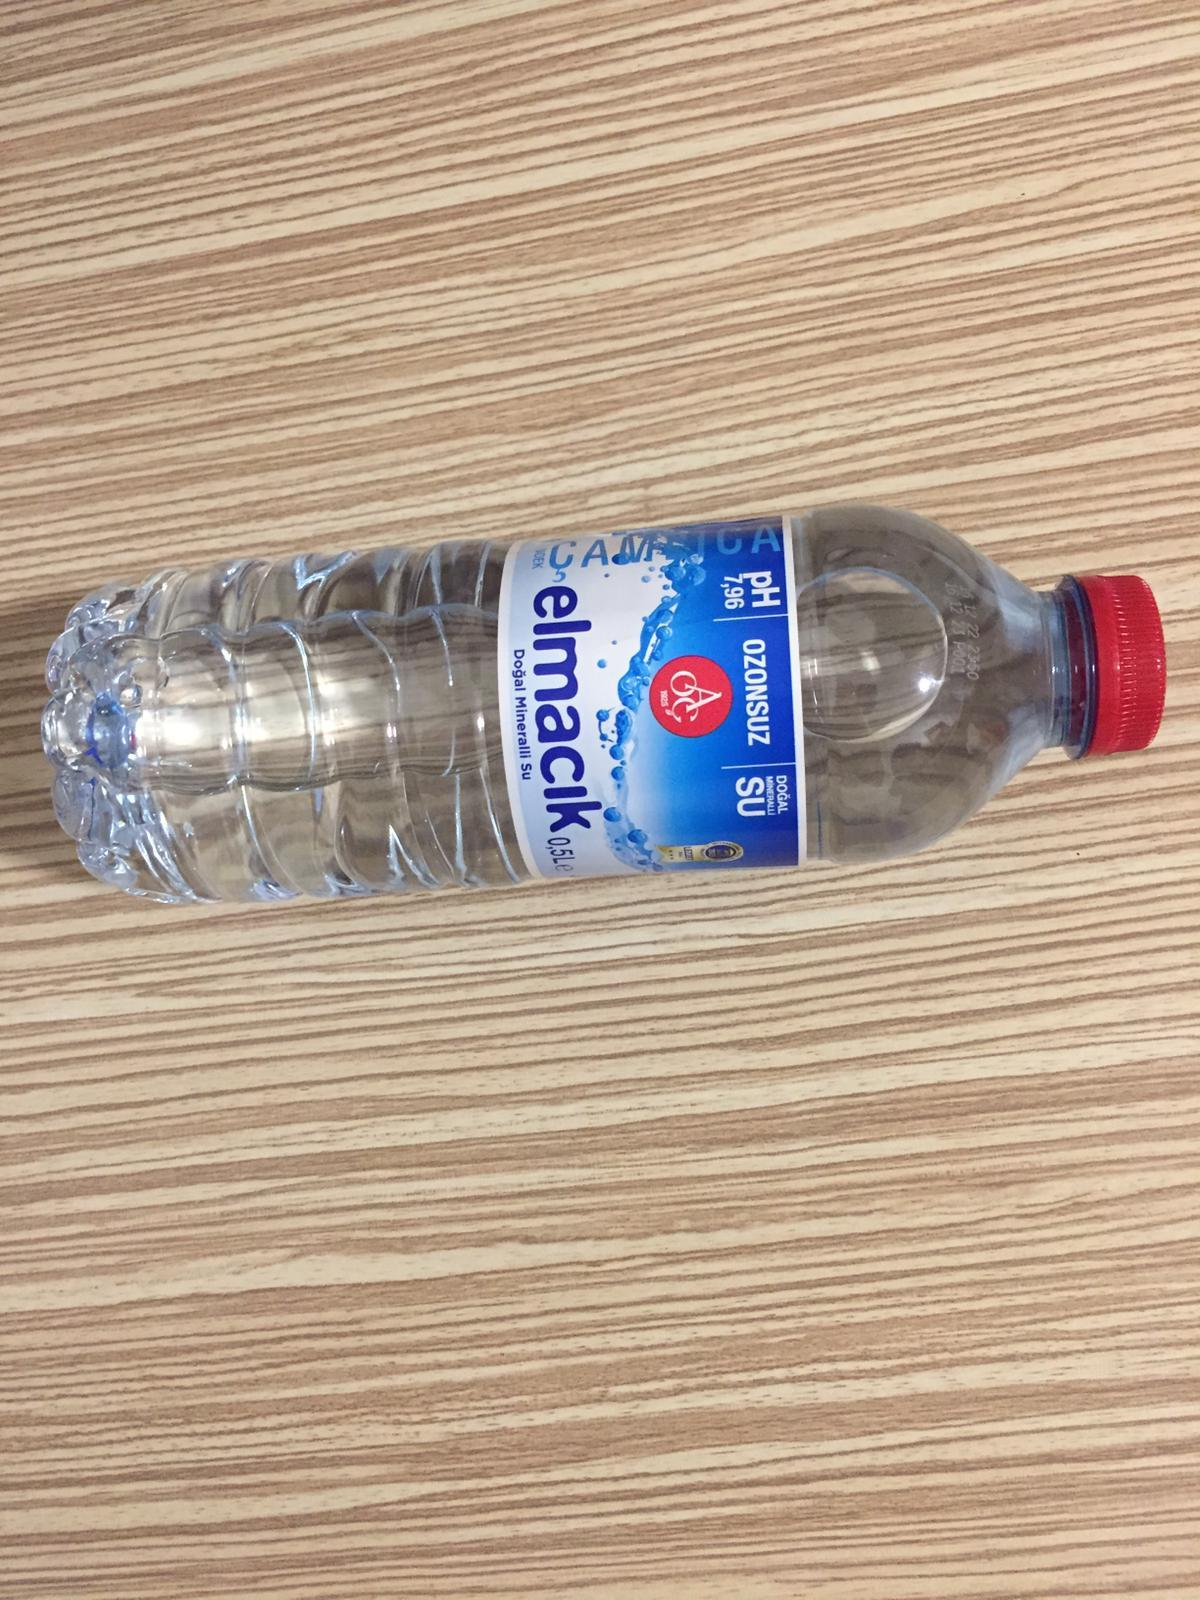bottle: (48, 499, 1170, 910)
